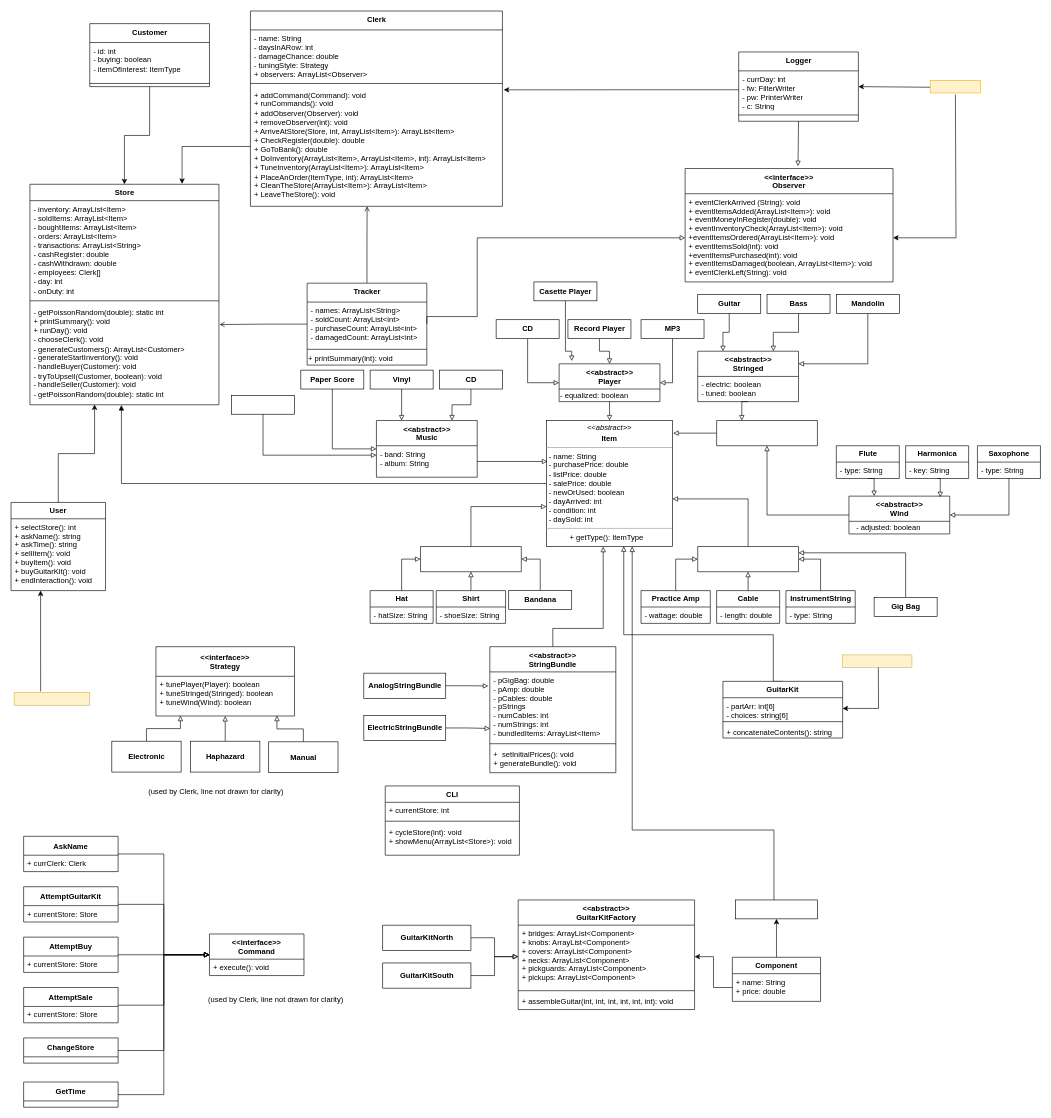
This 1051x1118 diagram has some shape labels left out. The centre of each missing label's shape, as x and y in pixels:
"(abstract factory)" goes at (877,660).
"(command pattern)" goes at (52,698).
"(singleton)" goes at (955,86).
"<<abstract>> Accessory" goes at (748,559).
"<<abstract>> Clothing" goes at (470,559).
"<<abstract>> Instrument" goes at (766,433).
"Casette" goes at (263,404).
"CustomGuitarKit" goes at (776,909).
